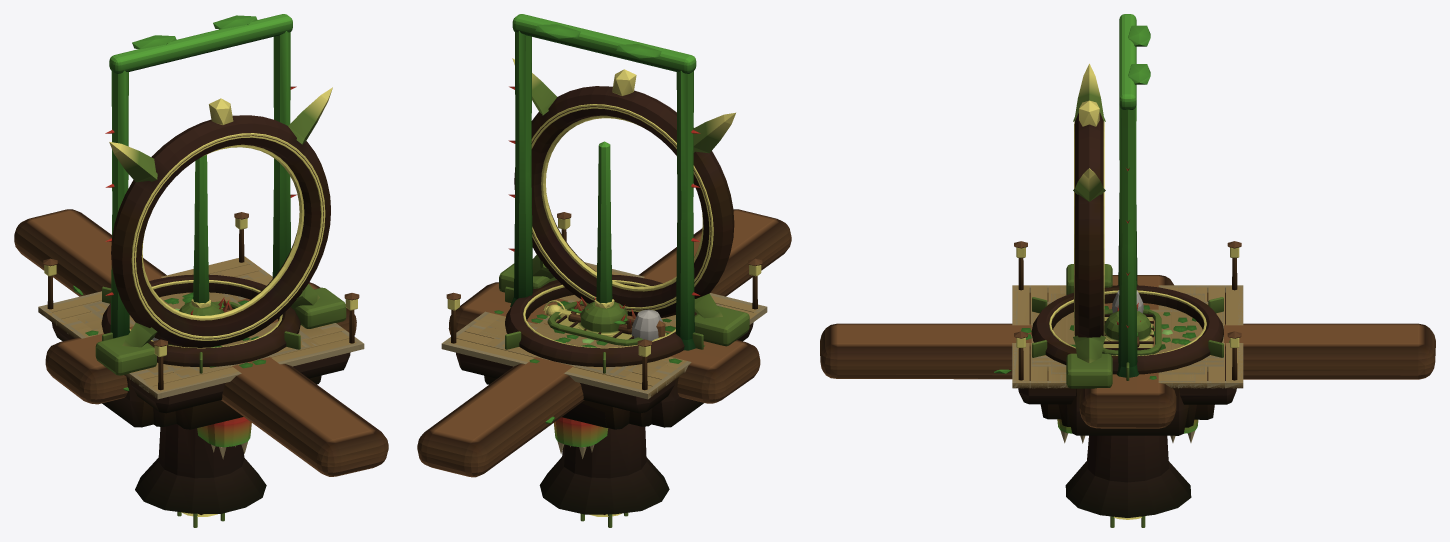
The model's file is swamp-1-CXkRyPCt.glb.
The picture shows the model from 3 angles, left to right: view 1: azimuth 30°, elevation 25°; view 2: azimuth 150°, elevation 25°; view 3: azimuth 270°, elevation 25°; orthographic projection. The views are drawn at different scales.
Parts seen in each view (by area): view 1: portal_#0, pad_12x2x12#0, beam_4x2x32#0, pressFrame_7.5x6x2.5x7#0, geyserVent_8#0, beam_16x1.5x5_plank#0, press_2.5x6x7.5#0, block_12x2x7#0, block_8x2x10#0, block_10x2x8#0, block_6x2x10#0, barHub_7.2x1.2#0; view 2: portal_#0, pad_12x2x12#0, beam_4x2x32#0, pressFrame_7.5x6x2.5x7#0, geyserVent_8#0, beam_16x1.5x5_plank#0, press_2.5x6x7.5#0, block_12x2x7#0, barHub_7.2x1.2#0, block_6x2x10#0, jetVent_5x3#0, block_10x2x8#0 (+4 smaller); view 3: beam_4x2x32#0, pad_12x2x12#0, portal_#0, pressFrame_7.5x6x2.5x7#0, geyserVent_8#0, beam_16x1.5x5_plank#0, block_12x2x7#0, block_6x2x10#0, block_10x2x8#0, jetVent_5x3#0, block_8x2x10#0, barHub_7.2x1.2#0.
Part boxes in pixels (x1,y1,x2,y2): portal_#0: [95, 87, 346, 375]; pad_12x2x12#0: [38, 212, 364, 513]; beam_4x2x32#0: [14, 209, 388, 476]; pressFrame_7.5x6x2.5x7#0: [105, 14, 296, 338]; geyserVent_8#0: [101, 274, 300, 373]; beam_16x1.5x5_plank#0: [45, 282, 356, 404]; press_2.5x6x7.5#0: [175, 155, 251, 459]; block_12x2x7#0: [63, 274, 338, 427]; block_8x2x10#0: [83, 272, 319, 429]; block_10x2x8#0: [75, 275, 326, 426]; block_6x2x10#0: [100, 292, 301, 373]; barHub_7.2x1.2#0: [179, 299, 224, 315]; portal_#0: [499, 58, 749, 346]; pad_12x2x12#0: [441, 212, 767, 514]; beam_4x2x32#0: [417, 209, 791, 477]; pressFrame_7.5x6x2.5x7#0: [508, 14, 700, 350]; geyserVent_8#0: [505, 274, 703, 373]; beam_16x1.5x5_plank#0: [448, 282, 760, 403]; press_2.5x6x7.5#0: [554, 141, 612, 458]; block_12x2x7#0: [466, 310, 704, 427]; barHub_7.2x1.2#0: [544, 299, 627, 335]; block_6x2x10#0: [503, 296, 675, 373]; jetVent_5x3#0: [547, 301, 642, 345]; block_10x2x8#0: [479, 316, 673, 426]; beam_4x2x32#0: [820, 323, 1435, 379]; pad_12x2x12#0: [1012, 241, 1243, 517]; portal_#0: [1066, 63, 1112, 388]; pressFrame_7.5x6x2.5x7#0: [1116, 14, 1150, 377]; geyserVent_8#0: [1031, 285, 1223, 380]; beam_16x1.5x5_plank#0: [1079, 275, 1176, 428]; block_12x2x7#0: [1060, 285, 1195, 435]; block_6x2x10#0: [1031, 309, 1223, 358]; block_10x2x8#0: [1051, 293, 1204, 427]; jetVent_5x3#0: [1102, 309, 1161, 355]; block_8x2x10#0: [1031, 301, 1223, 419]; barHub_7.2x1.2#0: [1104, 311, 1153, 341].
Size of the model in its own units: 15.98 by 26.85 by 32.02.
